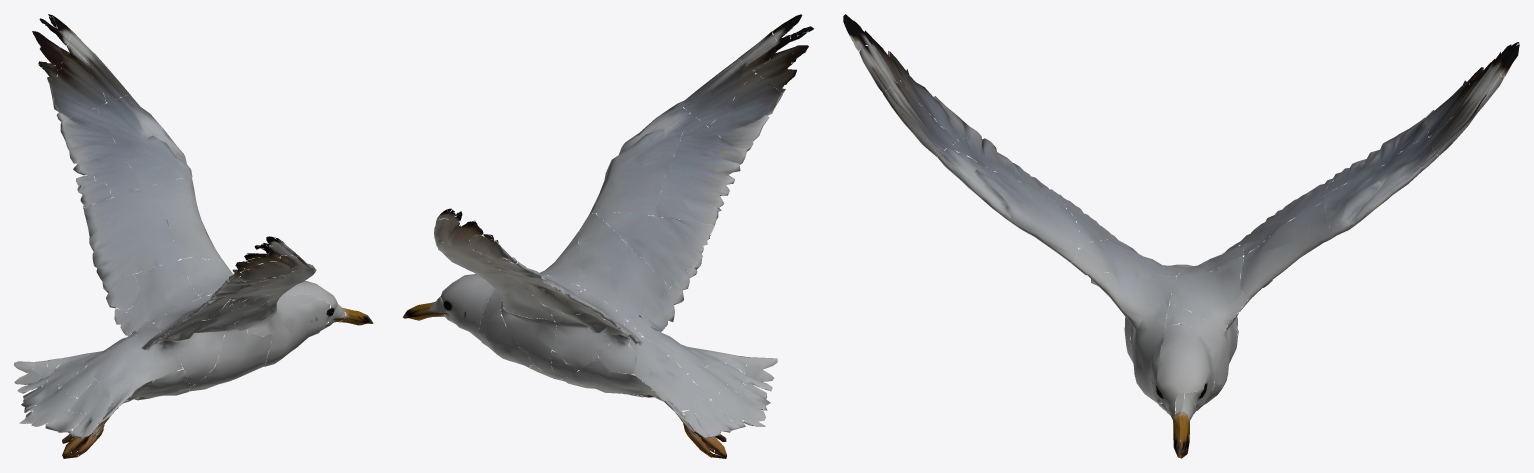
File: bird.glb
3 views of the same model, side by side, from view 1: azimuth 30°, elevation 25°; view 2: azimuth 150°, elevation 25°; view 3: azimuth 270°, elevation 25° (orthographic). The views are drawn at different scales.
Visible parts, largest first — view 1: tripo_node_603278bb-b481-45d3-acd8-ec023b1882c3; view 2: tripo_node_603278bb-b481-45d3-acd8-ec023b1882c3; view 3: tripo_node_603278bb-b481-45d3-acd8-ec023b1882c3.
Part boxes in pixels (left/top/right/bottom): tripo_node_603278bb-b481-45d3-acd8-ec023b1882c3: left=14, top=14, right=373, bottom=458; tripo_node_603278bb-b481-45d3-acd8-ec023b1882c3: left=402, top=14, right=813, bottom=458; tripo_node_603278bb-b481-45d3-acd8-ec023b1882c3: left=843, top=14, right=1519, bottom=458.
Bounding box in the file's own units: 1 × 0.8482 × 1.38.
1 material, 1 textured.
